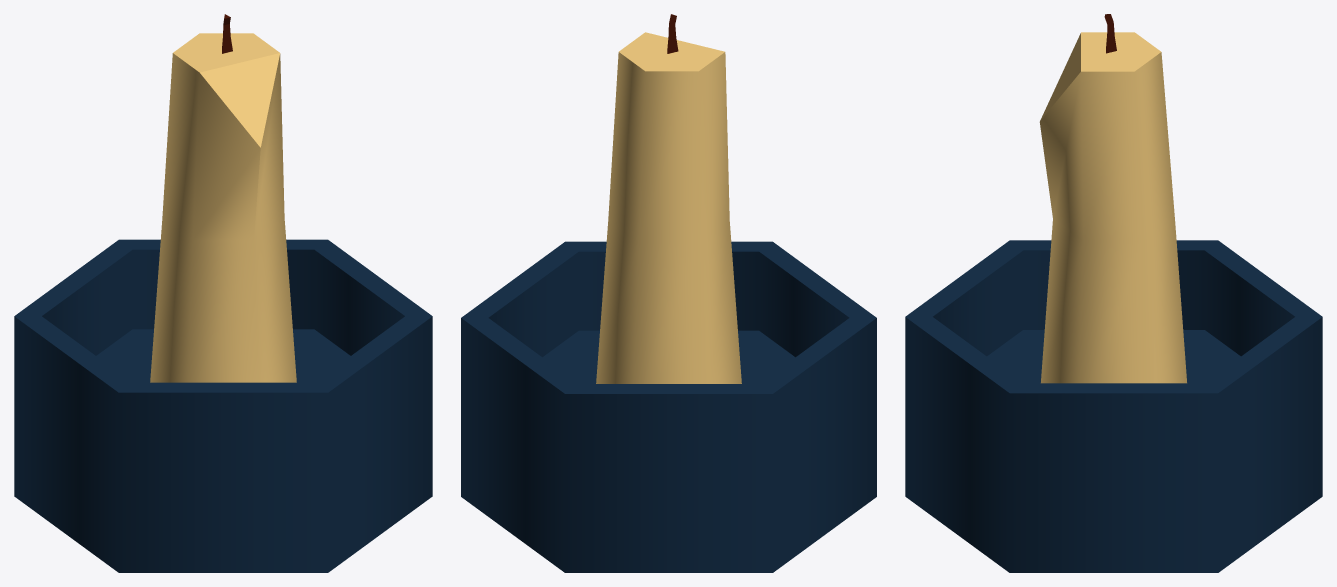
The model's file is SM_Candle_A.fbx.
The picture shows the model from 3 angles, left to right: view 1: azimuth 30°, elevation 25°; view 2: azimuth 150°, elevation 25°; view 3: azimuth 270°, elevation 25°; orthographic projection.
Visible parts, largest first — view 1: Candle_A; view 2: Candle_A; view 3: Candle_A.
Boxes of the visible parts, bbox=[...] form: Candle_A: bbox=[14, 14, 432, 572]; Candle_A: bbox=[461, 14, 876, 572]; Candle_A: bbox=[905, 14, 1322, 572].
Size of the model in its own units: 13.79 by 20.3 by 15.92.
